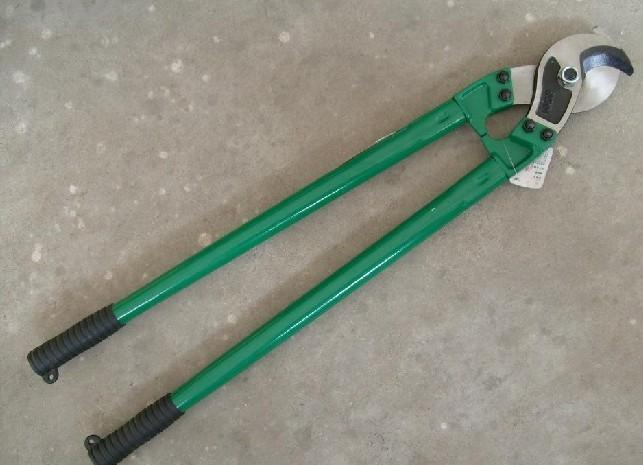scissor: (42, 23, 643, 436)
